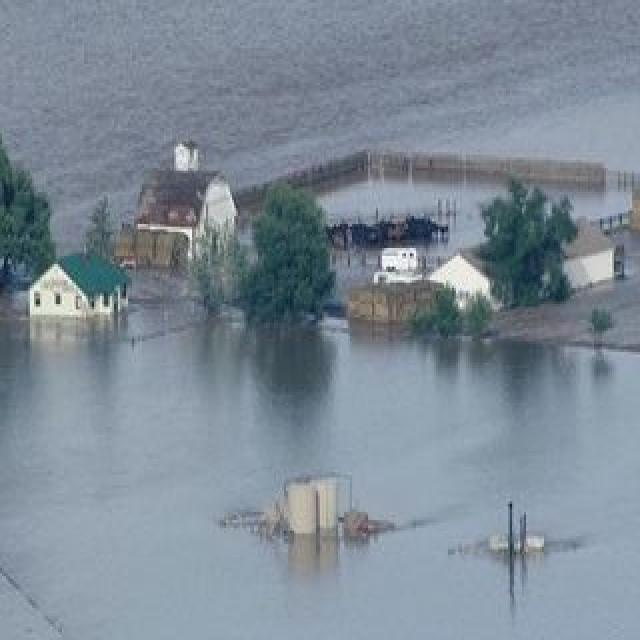flooded_areas: (0, 35, 630, 576)
